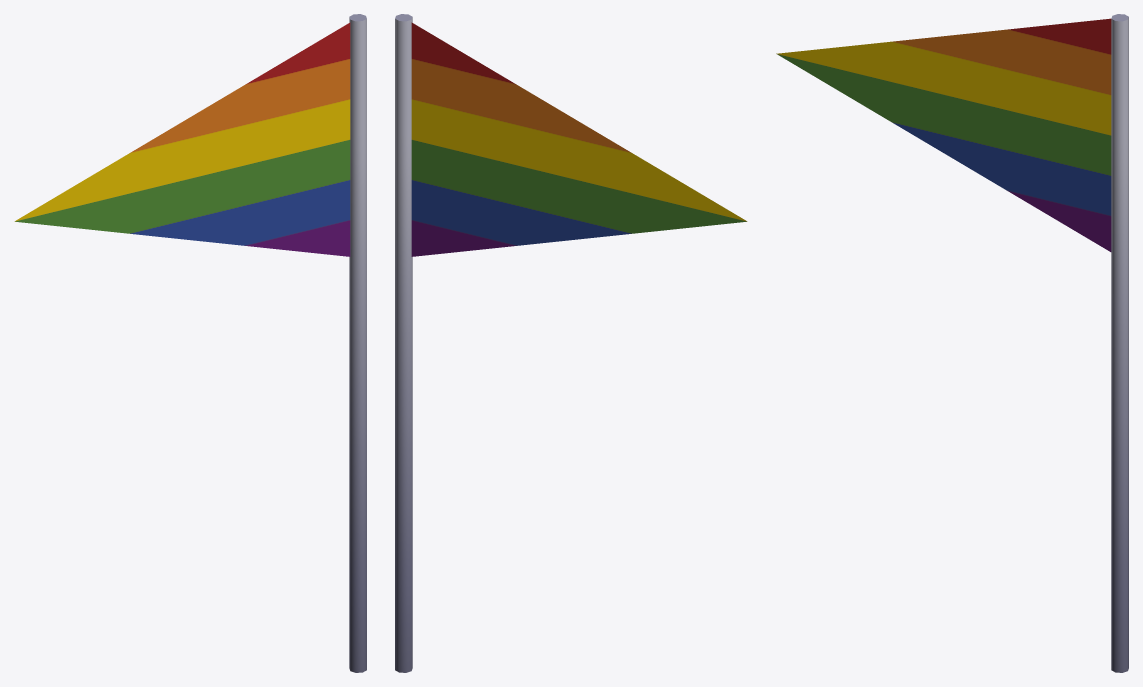
The model's file is m_Pride_HandheldFlag02.fbx.
The picture shows the model from 3 angles, left to right: view 1: azimuth 30°, elevation 25°; view 2: azimuth 150°, elevation 25°; view 3: azimuth 330°, elevation 25°; orthographic projection.
Visible parts, largest first — view 1: m_Pride_HandheldFlag02; view 2: m_Pride_HandheldFlag02; view 3: m_Pride_HandheldFlag02.
Boxes of the visible parts, left/top/right/bottom form: m_Pride_HandheldFlag02: left=14, top=14, right=366, bottom=672; m_Pride_HandheldFlag02: left=395, top=14, right=747, bottom=672; m_Pride_HandheldFlag02: left=776, top=14, right=1128, bottom=672.
Size of the model in its own units: 21.48 by 38 by 0.96.
